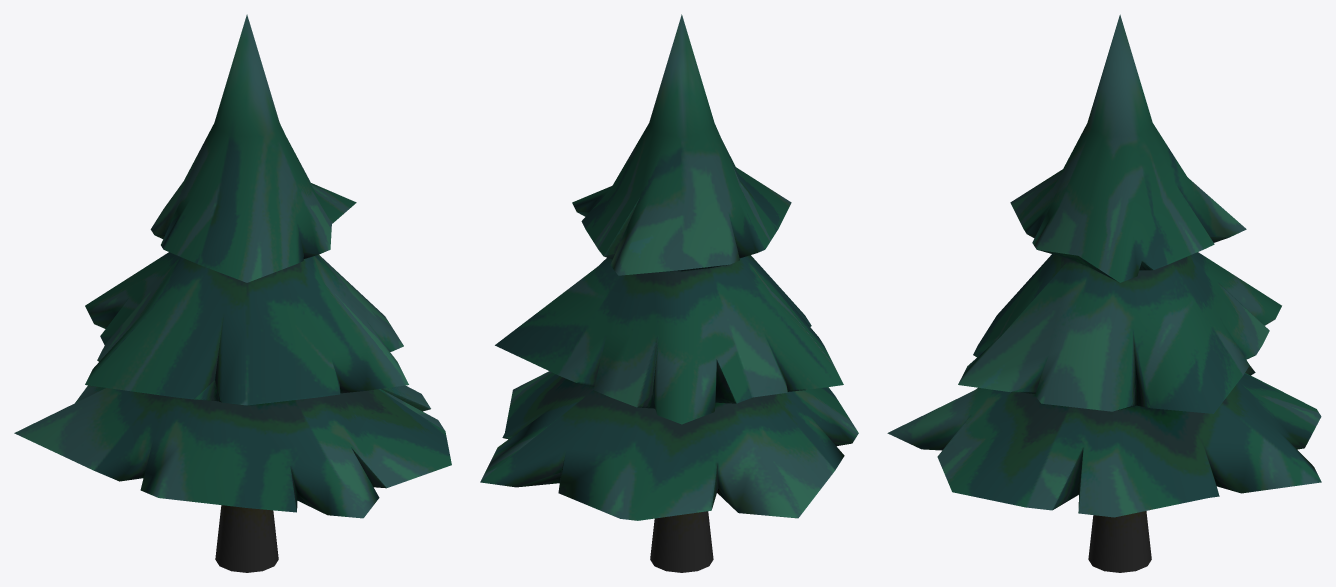
Rendered from pine1.glb.
The picture shows the model from 3 angles, left to right: view 1: azimuth 30°, elevation 25°; view 2: azimuth 150°, elevation 25°; view 3: azimuth 270°, elevation 25°; orthographic projection.
Parts seen in each view (by area): view 1: pine1; view 2: pine1; view 3: pine1.
Boxes of the visible parts, x1,y1,x2,y2 form: pine1: [14, 14, 451, 572]; pine1: [480, 14, 858, 572]; pine1: [887, 14, 1321, 572].
Size of the model in its own units: 1.26 by 1.89 by 1.36.
1 material, 1 textured.
